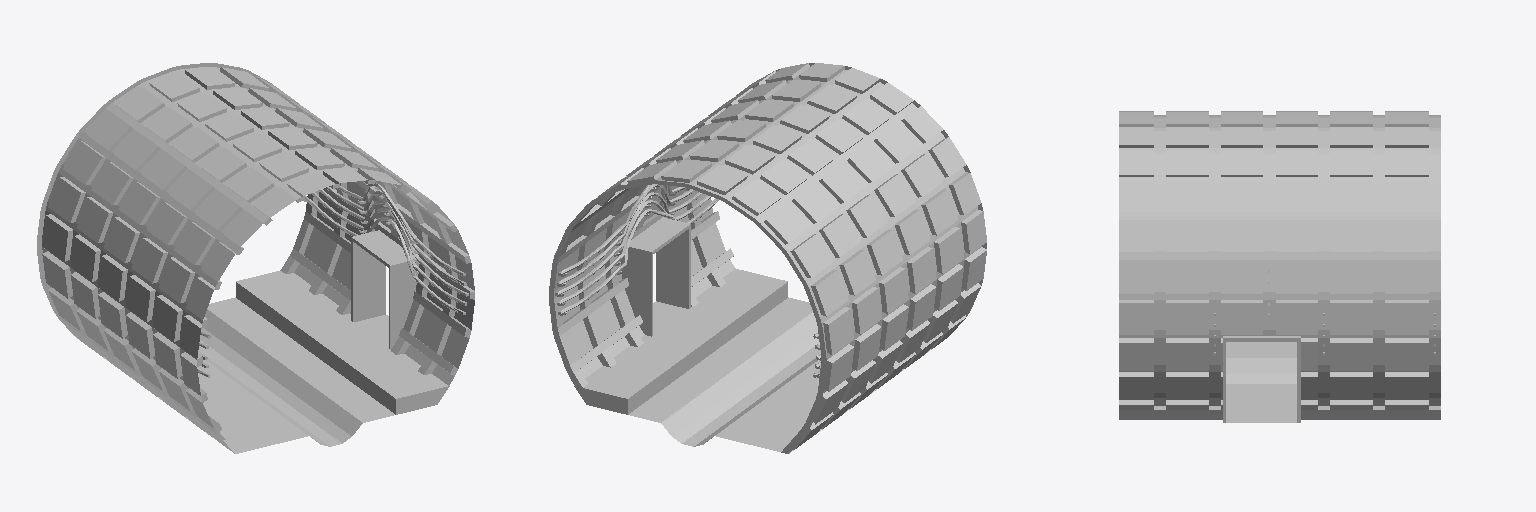
File: tunnel1Teh.obj
3 views of the same model, side by side, from view 1: azimuth 30°, elevation 25°; view 2: azimuth 150°, elevation 25°; view 3: azimuth 270°, elevation 25° (orthographic).
Visible parts, largest first — view 1: Cylinder_Cylinder.001, Cylinder.010_Cylinder.011; view 2: Cylinder_Cylinder.001, Cylinder.010_Cylinder.011; view 3: Cylinder_Cylinder.001.
Boxes of the visible parts, box(x1,y1,x2,y2) form: Cylinder_Cylinder.001: box(37, 63, 474, 453); Cylinder.010_Cylinder.011: box(197, 183, 468, 377); Cylinder_Cylinder.001: box(549, 63, 986, 453); Cylinder.010_Cylinder.011: box(555, 184, 820, 377); Cylinder_Cylinder.001: box(1119, 111, 1440, 422).
Bounding box in the file's own units: 0.8991 × 0.8073 × 0.9001.